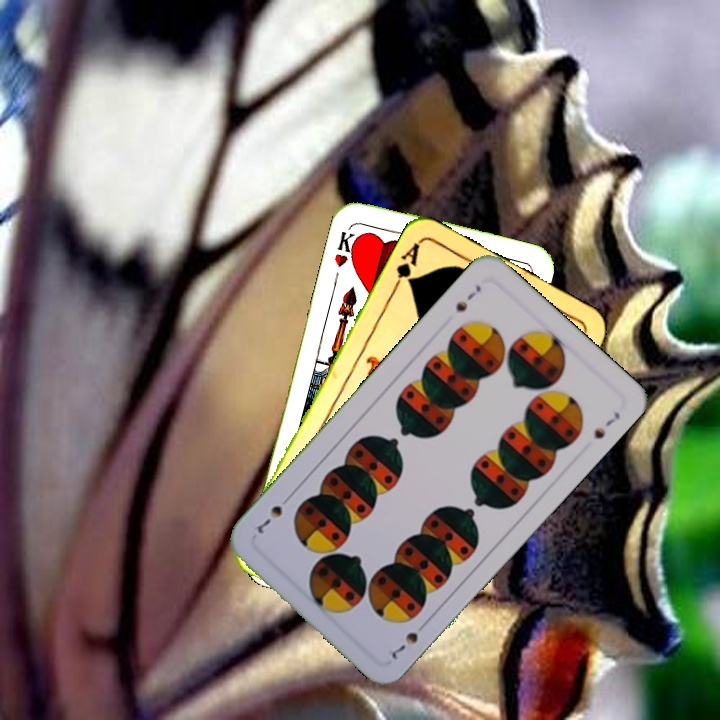GA: (389, 238, 422, 294)
HK: (330, 227, 363, 270)
S7: (383, 617, 431, 662), (451, 281, 484, 315)
